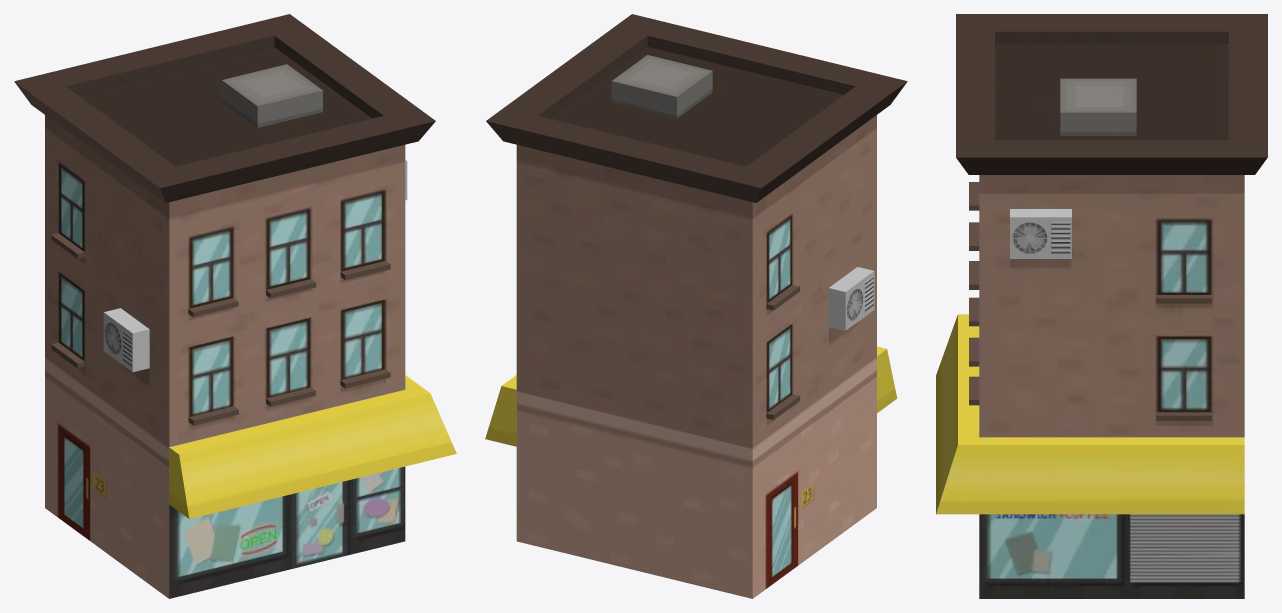
The model's file is city_building_03.glb.
3 renders of one model, left to right at view 1: azimuth 30°, elevation 25°; view 2: azimuth 150°, elevation 25°; view 3: azimuth 270°, elevation 25°, orthographic. The views are drawn at different scales.
Parts seen in each view (by area): view 1: city:polySurface333; view 2: city:polySurface333; view 3: city:polySurface333.
Boxes of the visible parts, <box> form: city:polySurface333: <box>14,14,456,598</box>; city:polySurface333: <box>485,14,907,598</box>; city:polySurface333: <box>936,14,1267,598</box>.
Size of the model in its own units: 5.96 by 8.6 by 5.58.
Materials: 1 (1 with a texture image).
